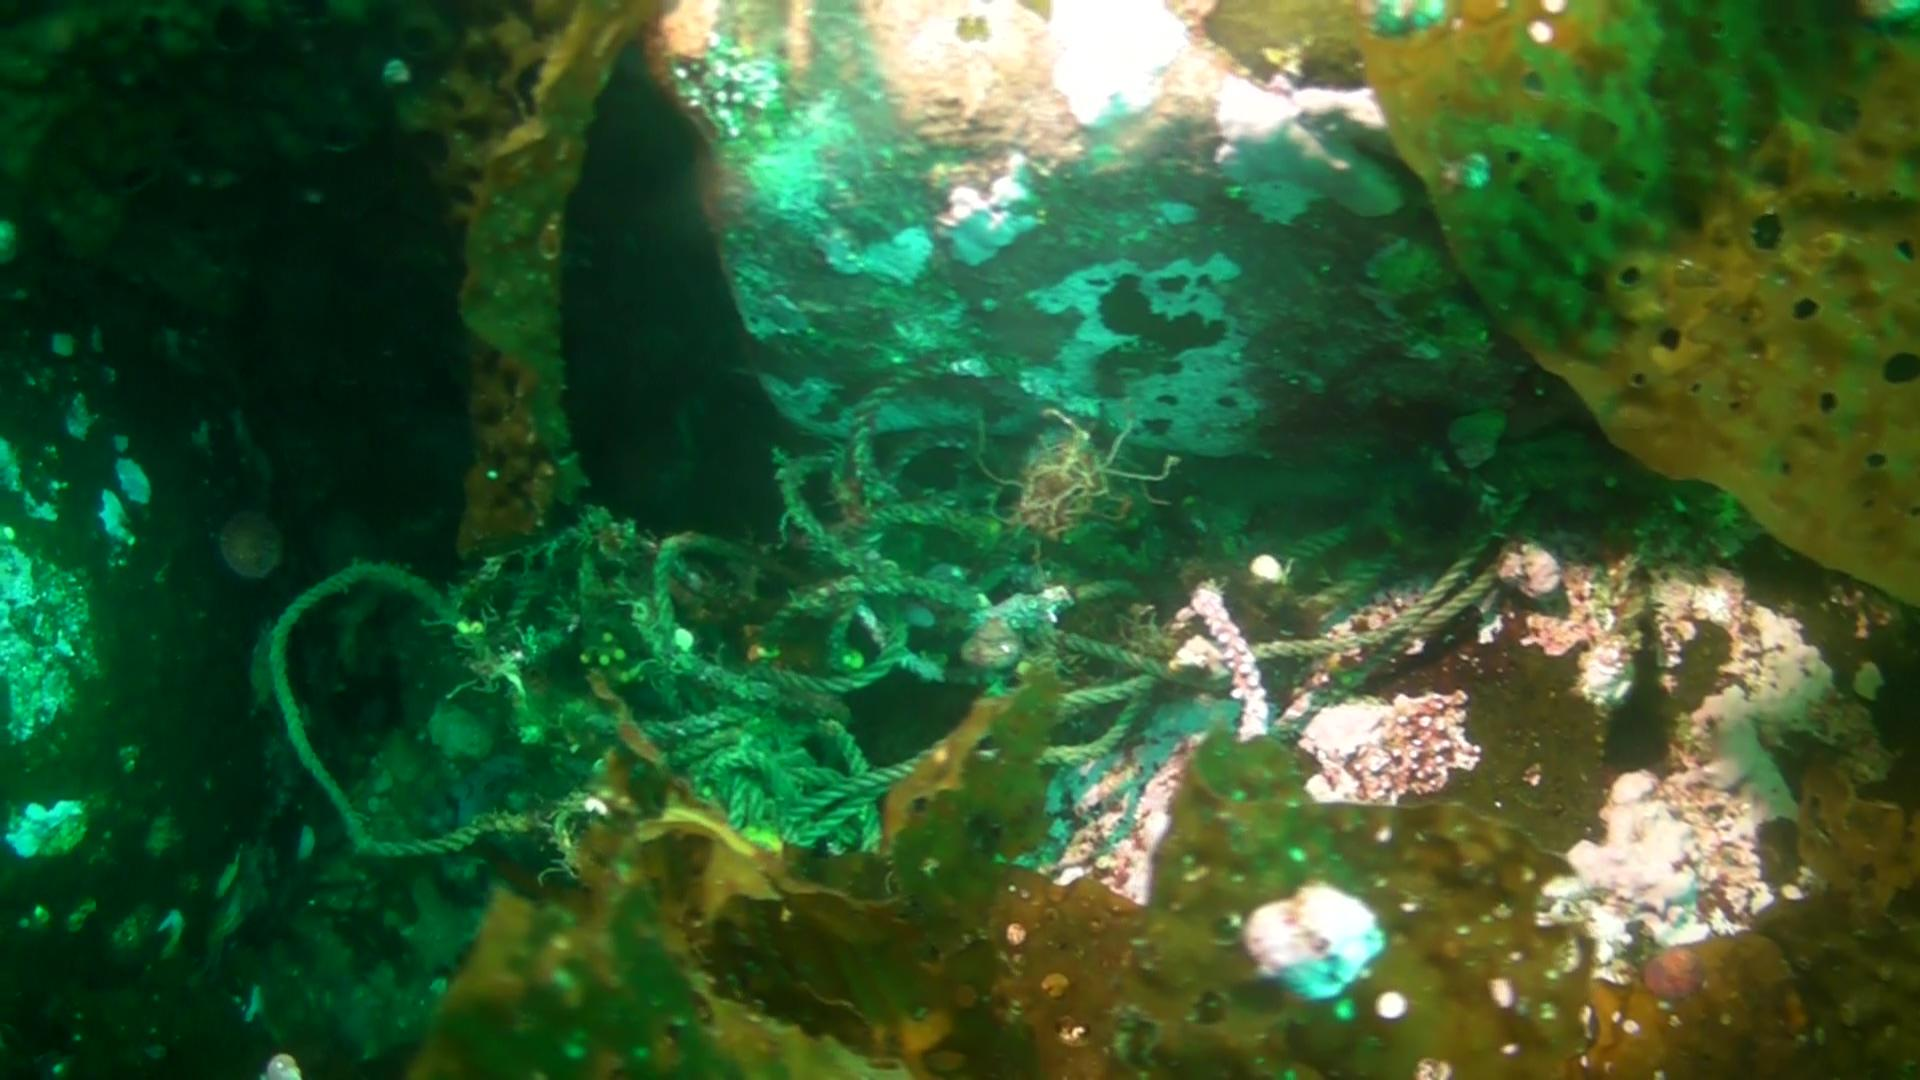bundle of ropes: (266, 348, 1536, 878)
